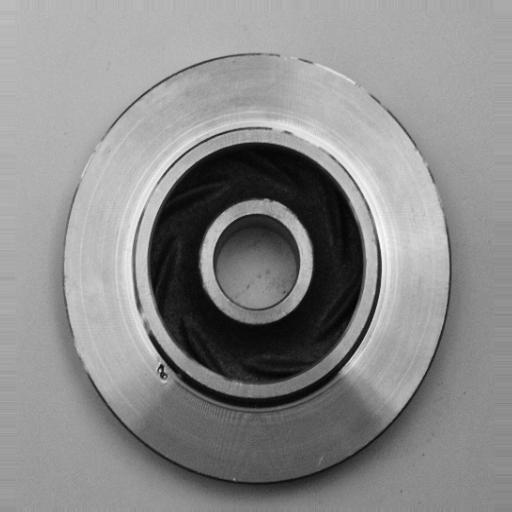crack: (148, 356, 176, 391)
scratch: (260, 114, 333, 156)
unpolished_casting: (59, 52, 458, 488)
